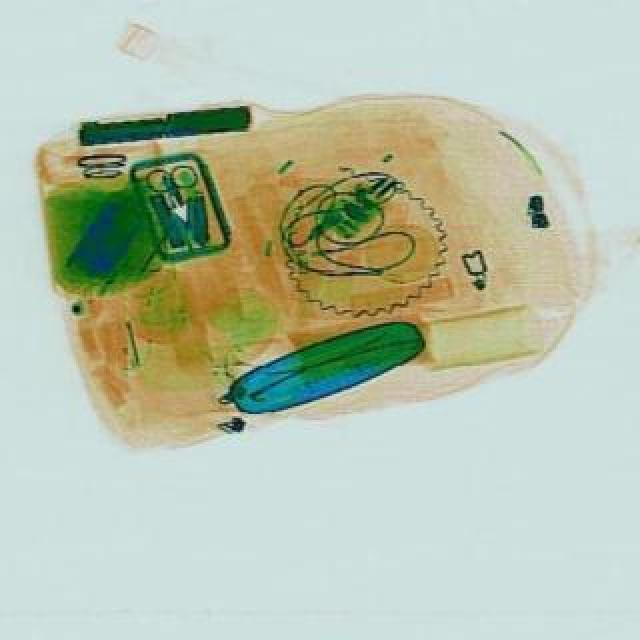pliers: (148, 164, 214, 230)
